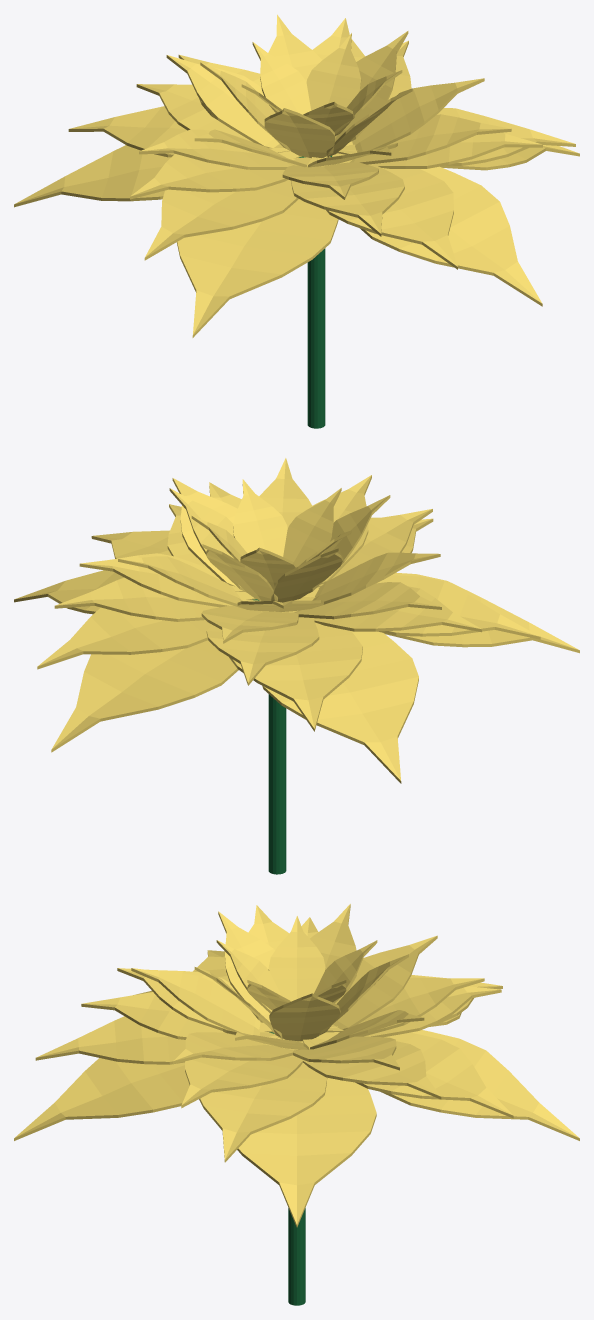
Rendered from Flower_4.fbx.
3 renders of one model, top to bottom at view 1: azimuth 30°, elevation 25°; view 2: azimuth 150°, elevation 25°; view 3: azimuth 270°, elevation 25°, orthographic. The views are drawn at different scales.
Visible parts, largest first — view 1: Flower_4; view 2: Flower_4; view 3: Flower_4.
Part boxes in pixels (x1,y1,x2,y2): Flower_4: [14, 14, 579, 428]; Flower_4: [14, 458, 579, 874]; Flower_4: [14, 904, 579, 1305].
Bounding box in the file's own units: 682 × 493 × 710.
